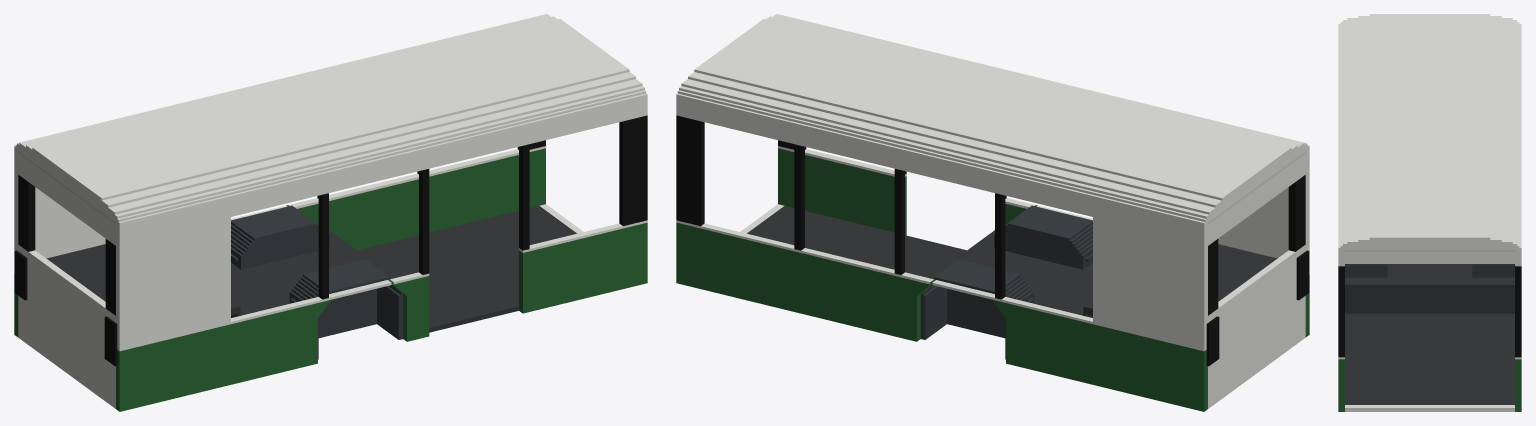
The model's file is articulated_bus_aft_shell.glb.
3 renders of one model, left to right at view 1: azimuth 30°, elevation 25°; view 2: azimuth 150°, elevation 25°; view 3: azimuth 270°, elevation 25°, orthographic. The views are drawn at different scales.
Visible parts, largest first — view 1: body:compound; view 2: body:compound; view 3: body:compound.
Boxes of the visible parts, x1,y1,x2,y2 form: body:compound: (14, 14, 647, 411); body:compound: (676, 14, 1309, 411); body:compound: (1338, 14, 1521, 411).
Size of the model in its own units: 7.44 by 2.69 by 2.56.
